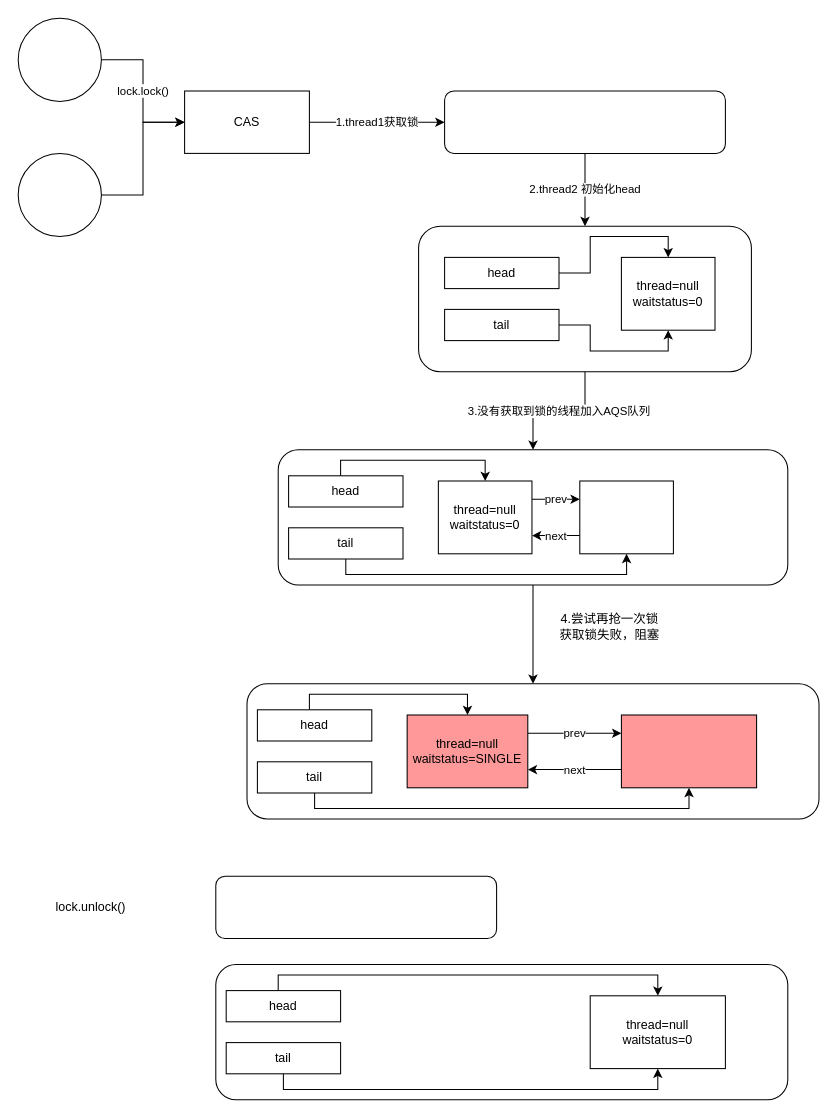
The diagram is 837 pixels wide and 1118 high, and some of its shapes have lost their labels. Here are the shapes that lost their labels. From the top down, the centre of each, then its label:
At (59,59): "Thread1".
At (584,121): "state=1 exclusiveOwnerThread=Thread1".
At (59,194): "Thread2".
At (626,517): "thread=Thread2 waitstatus=0".
At (688,751): "thread=Thread2 waitstatus=SINGLE".
At (356,907): "state=1 exclusiveOwnerThread=Thread2".
